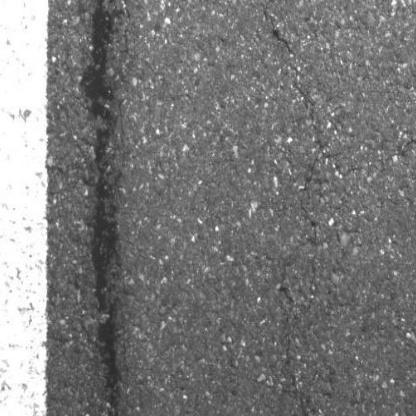Cracks: (290, 78, 326, 248), (261, 10, 302, 61), (291, 389, 323, 416), (331, 163, 371, 182), (399, 123, 416, 155), (266, 0, 284, 5)
